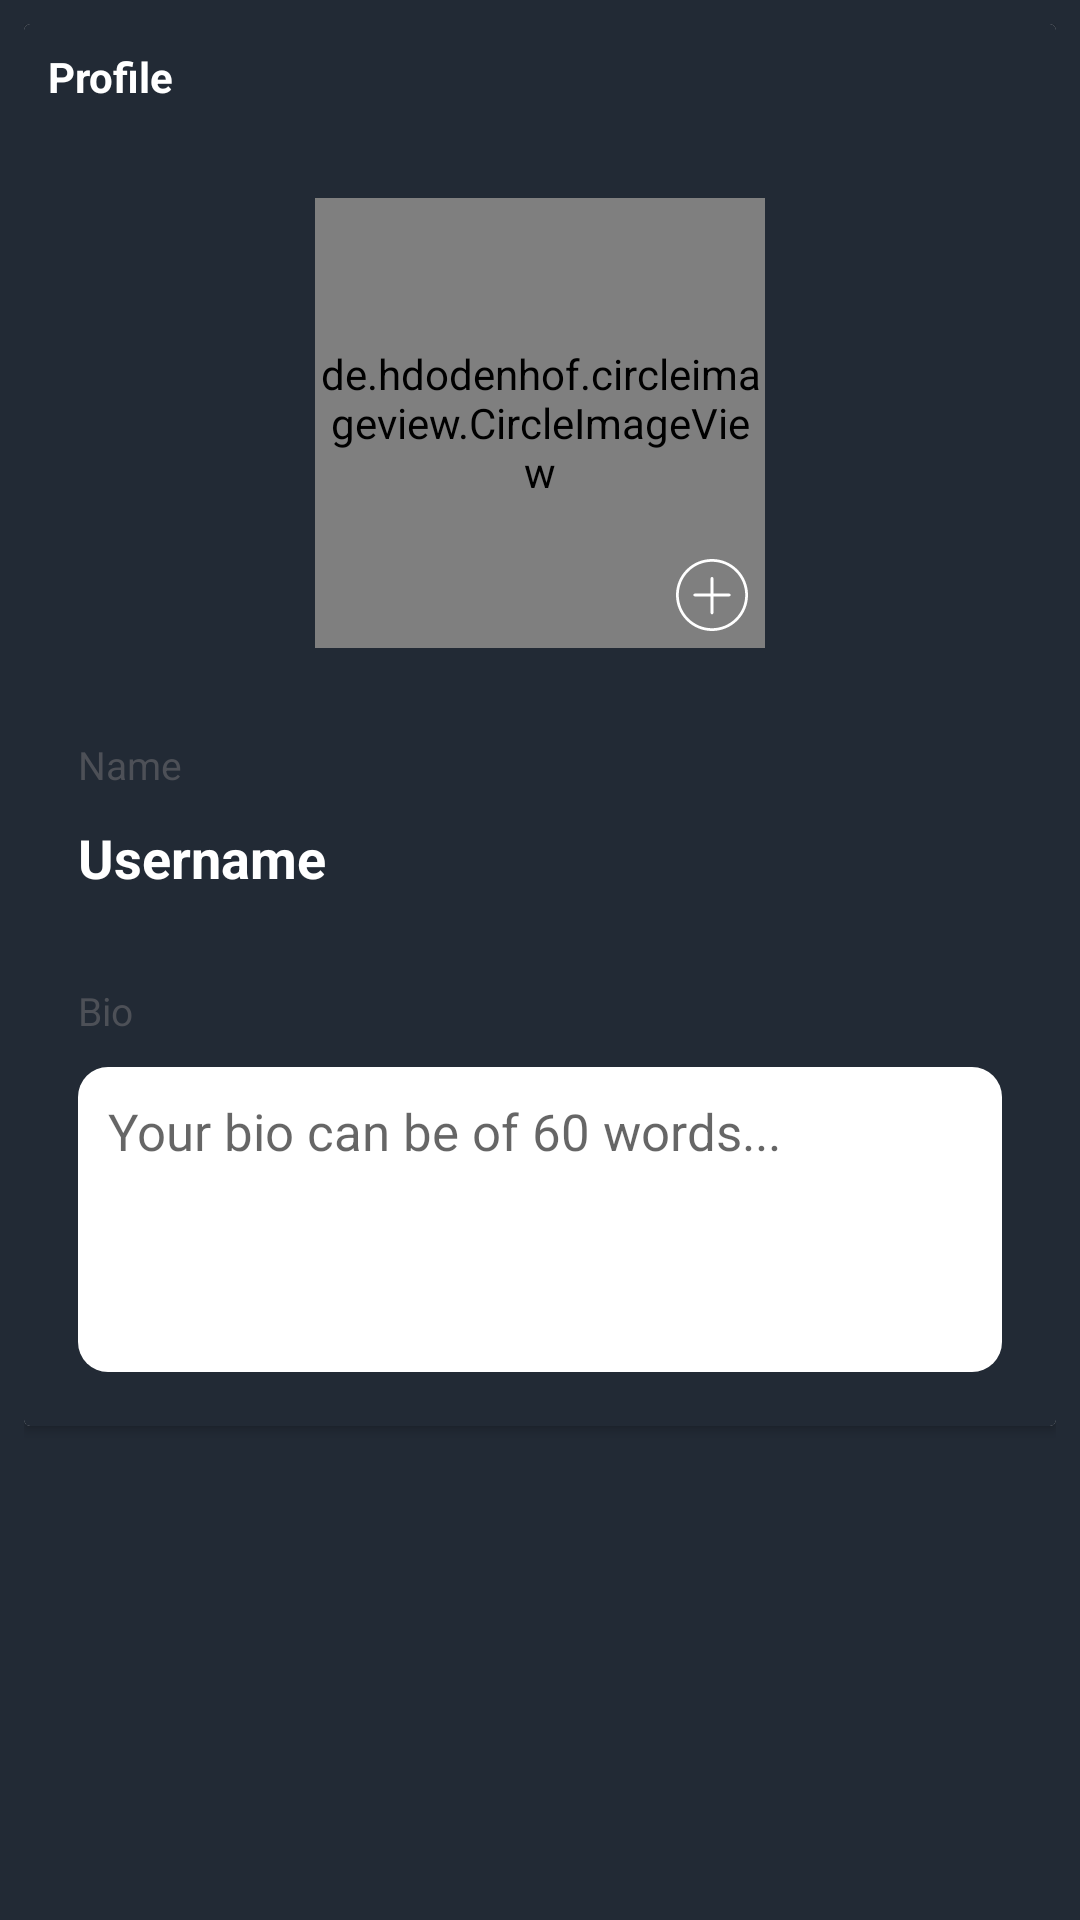

Named icons in this screenshot (1080 x 1920) and their bounding boxes, (x1, y1, x2, y2):
plus: (676, 559, 748, 631)
